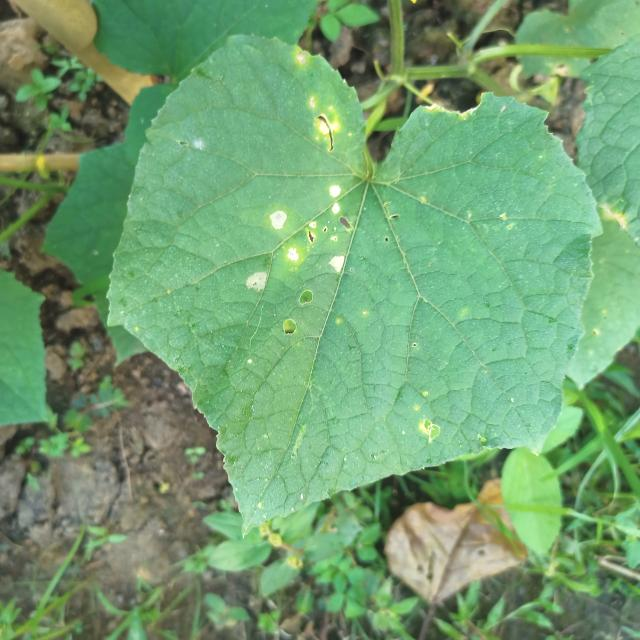disease_cucumber: (232, 172, 361, 306)
